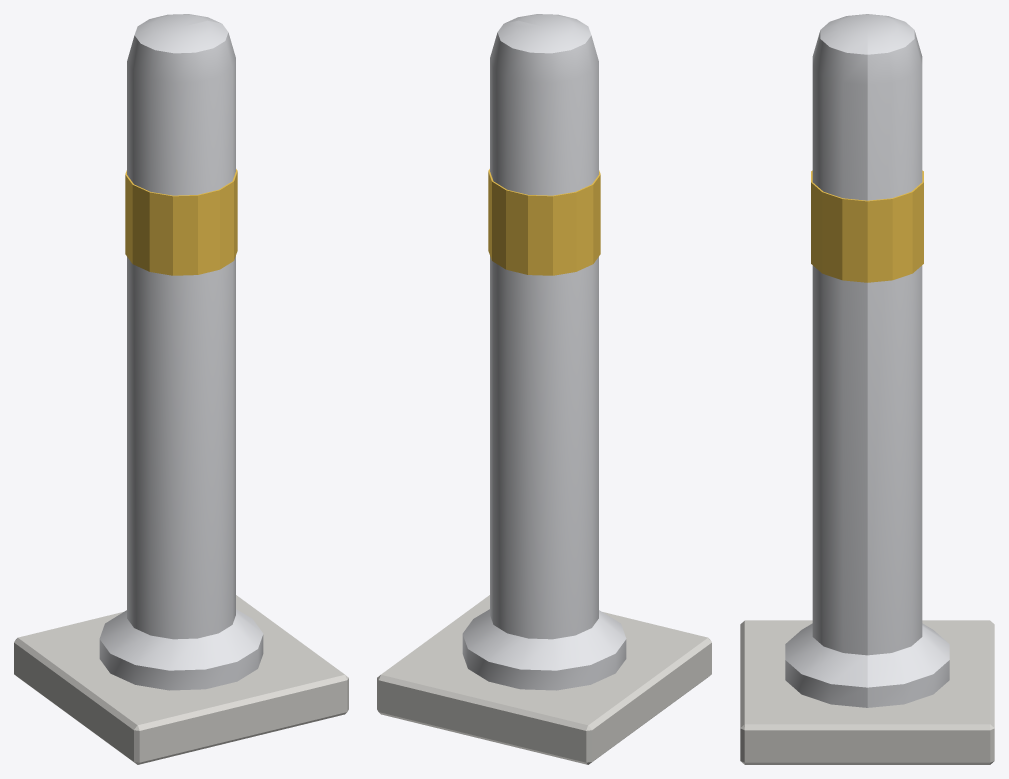
The model's file is petrol-station-and-forecourt-shop-forecourt-bollard-38259649__33955.glb.
3 views of the same model, side by side, from view 1: azimuth 30°, elevation 25°; view 2: azimuth 150°, elevation 25°; view 3: azimuth 270°, elevation 25° (orthographic). The views are drawn at different scales.
Parts seen in each view (by area): view 1: forecourt-bollard; view 2: forecourt-bollard; view 3: forecourt-bollard.
Part boxes in pixels (bbox=[...]): forecourt-bollard: bbox=[14, 14, 348, 764]; forecourt-bollard: bbox=[377, 14, 711, 764]; forecourt-bollard: bbox=[740, 14, 994, 764].
Size of the model in its own units: 0.34 by 1.01 by 0.34.
